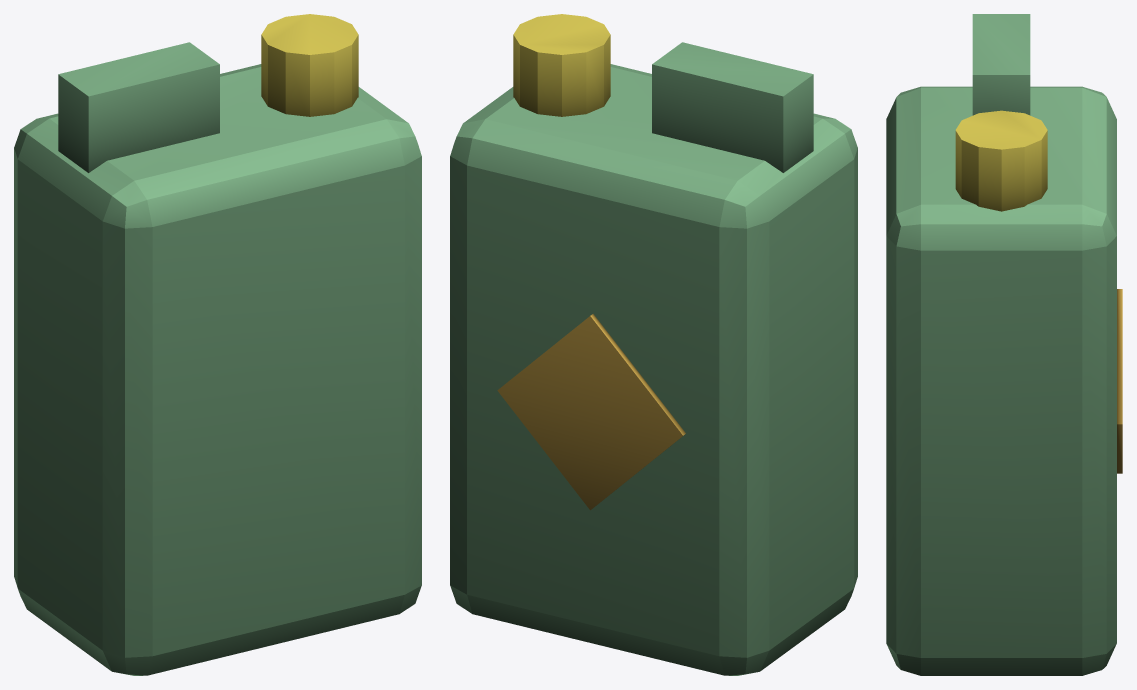
Rendered from Loot_Chemicals.fbx.
3 views of the same model, side by side, from view 1: azimuth 30°, elevation 25°; view 2: azimuth 150°, elevation 25°; view 3: azimuth 270°, elevation 25° (orthographic). The views are drawn at different scales.
Parts seen in each view (by area): view 1: Loot_Chemicals; view 2: Loot_Chemicals; view 3: Loot_Chemicals.
Boxes of the visible parts, left/top/right/bottom form: Loot_Chemicals: left=14, top=14, right=421, bottom=675; Loot_Chemicals: left=450, top=14, right=857, bottom=675; Loot_Chemicals: left=886, top=14, right=1122, bottom=675.
Size of the model in its own units: 0.12 by 0.205 by 0.082.
